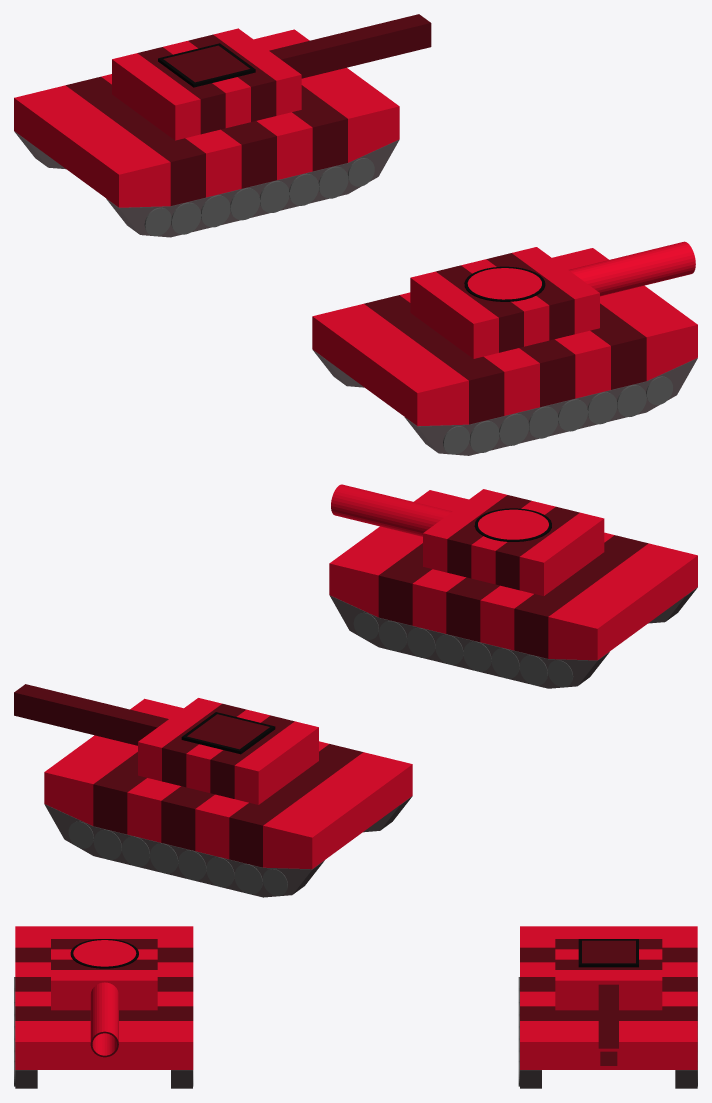
Rendered from EnemyTanks.fbx.
3 views of the same model, one above another, from view 1: azimuth 30°, elevation 25°; view 2: azimuth 150°, elevation 25°; view 3: azimuth 270°, elevation 25° (orthographic). The views are drawn at different scales.
Visible parts, largest first — view 1: EnemySquareTank, CicleTank.001; view 2: EnemySquareTank, CicleTank.001; view 3: CicleTank.001, EnemySquareTank.
Boxes of the visible parts, x1=… form: EnemySquareTank: x1=14, y1=14, x2=431, y2=237; CicleTank.001: x1=312, y1=241, x2=697, y2=455; EnemySquareTank: x1=14, y1=684, x2=412, y2=897; CicleTank.001: x1=329, y1=484, x2=697, y2=688; CicleTank.001: x1=14, y1=926, x2=193, y2=1088; EnemySquareTank: x1=518, y1=926, x2=697, y2=1088.
Size of the model in its own units: 3333 by 516 by 1706.
